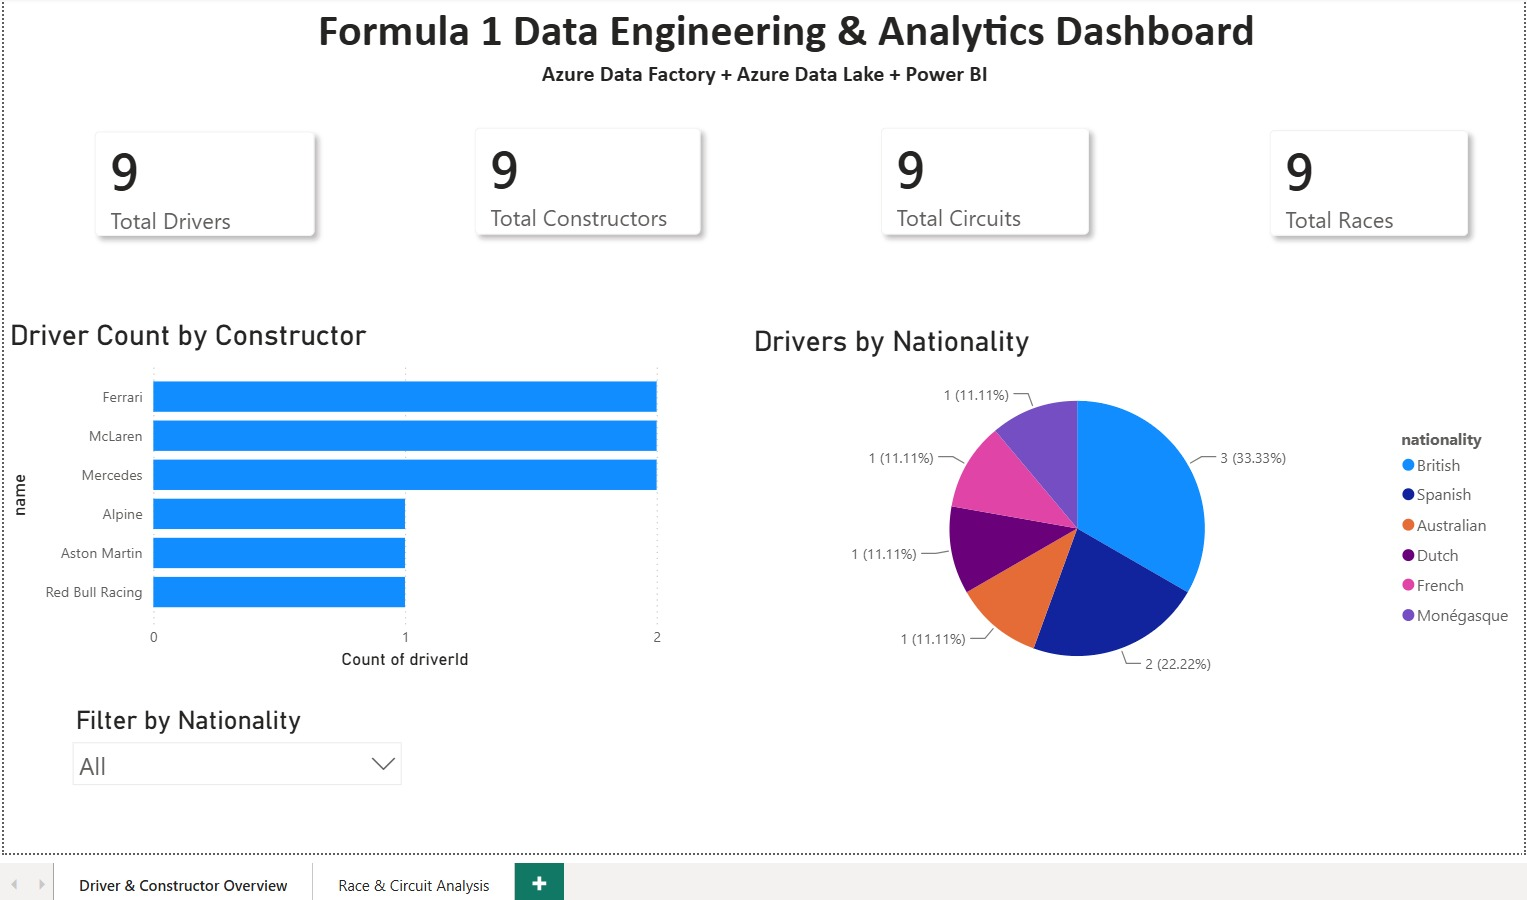

The dashboard page shown, as its layout file describes it:
{"tool":"powerbi","page":{"name":"Driver & Constructor Overview","canvas":[1280,720],"ordinal":0},"visuals":[{"type":"clusteredBarChart","title":"Driver Count by Constructor","fields":{"Category":["Constructors.name"],"Y":["CountNonNull(Drivers.driverId)"]},"box":[0,269.8,558.1,300],"z":0},{"type":"pieChart","title":"Drivers by Nationality","fields":{"Category":["Drivers.nationality"],"Y":["CountNonNull(Drivers.driverId)"]},"box":[625.6,275.6,654.7,316.3],"z":1000},{"type":"textbox","box":[125.6,0,1066.3,91.9],"z":2000},{"type":"slicer","fields":{"Values":["Drivers.nationality"]},"box":[47.5,591.2,297.5,86.2],"z":3000},{"type":"cardVisual","fields":{"Data":["Constructors.Total Constructors"]},"box":[367.4,81.4,248.8,148.8],"z":4000},{"type":"cardVisual","fields":{"Data":["Drivers.Total Drivers"]},"box":[47.7,83.7,243,146.5],"z":5000},{"type":"cardVisual","fields":{"Data":["Circuits.Total Circuits"]},"box":[708.1,81.4,233.7,148.8],"z":6000},{"type":"cardVisual","fields":{"Data":["Races.Total Races"]},"box":[1036,82.6,225.6,147.7],"z":7000},{"type":"textbox","box":[411.2,48.8,457.5,42.5],"z":7001}]}

Visuals, with their boxes on the page's 1280x720 design canvas (x1, y1, x2, y2). These are canvas units, not pixel positions in the 1527x900 screenshot, which may show the page scaled, cropped or inside an application window:
"Driver Count by Constructor" clusteredBarChart: crop(0, 270, 558, 570)
"Drivers by Nationality" pieChart: crop(626, 276, 1280, 592)
textbox: crop(126, 0, 1192, 92)
slicer - Drivers.nationality: crop(48, 591, 345, 677)
cardVisual - Constructors.Total Constructors: crop(367, 81, 616, 230)
cardVisual - Drivers.Total Drivers: crop(48, 84, 291, 230)
cardVisual - Circuits.Total Circuits: crop(708, 81, 942, 230)
cardVisual - Races.Total Races: crop(1036, 83, 1262, 230)
textbox: crop(411, 49, 869, 91)
